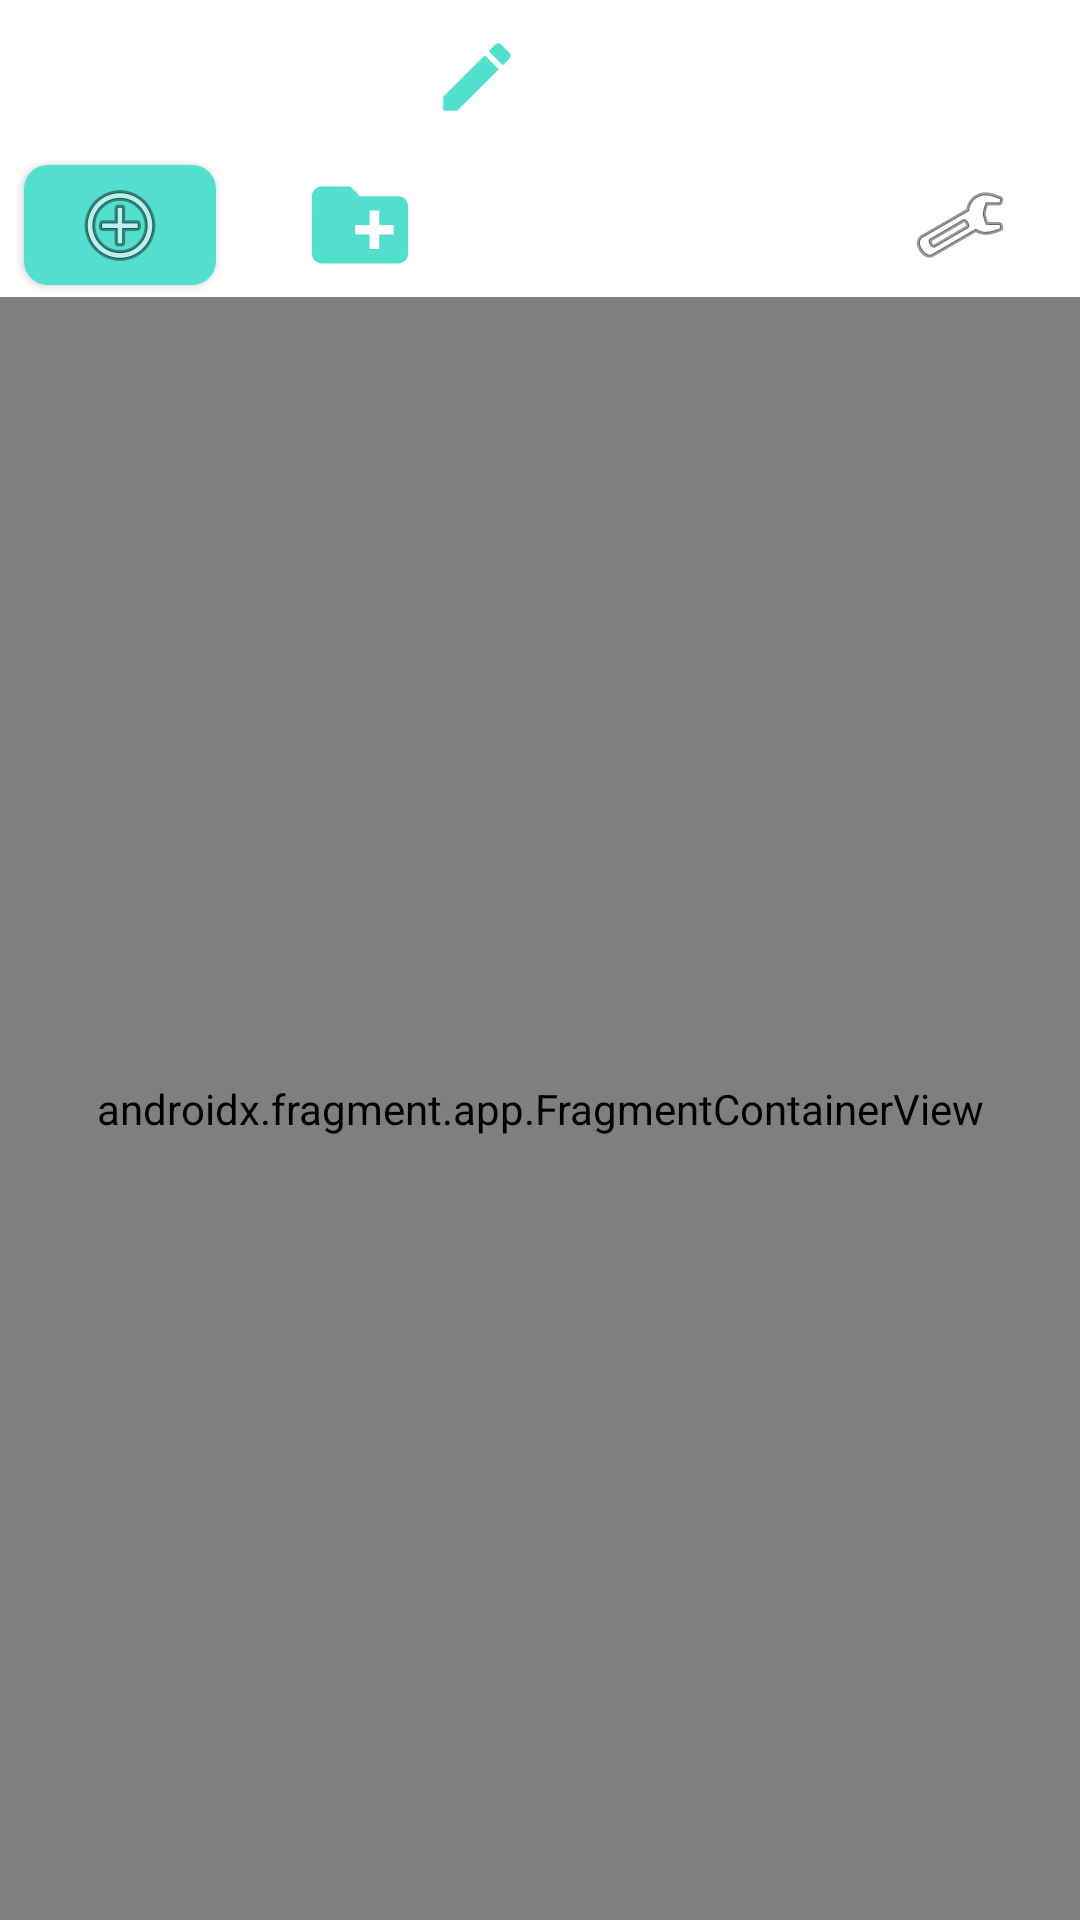

Icons on this 1080 × 1920 Android screen, each with the point to tap as [x,y]:
Add folder: [360,225]
Edit folder: [477,77]
Settings: [960,225]
